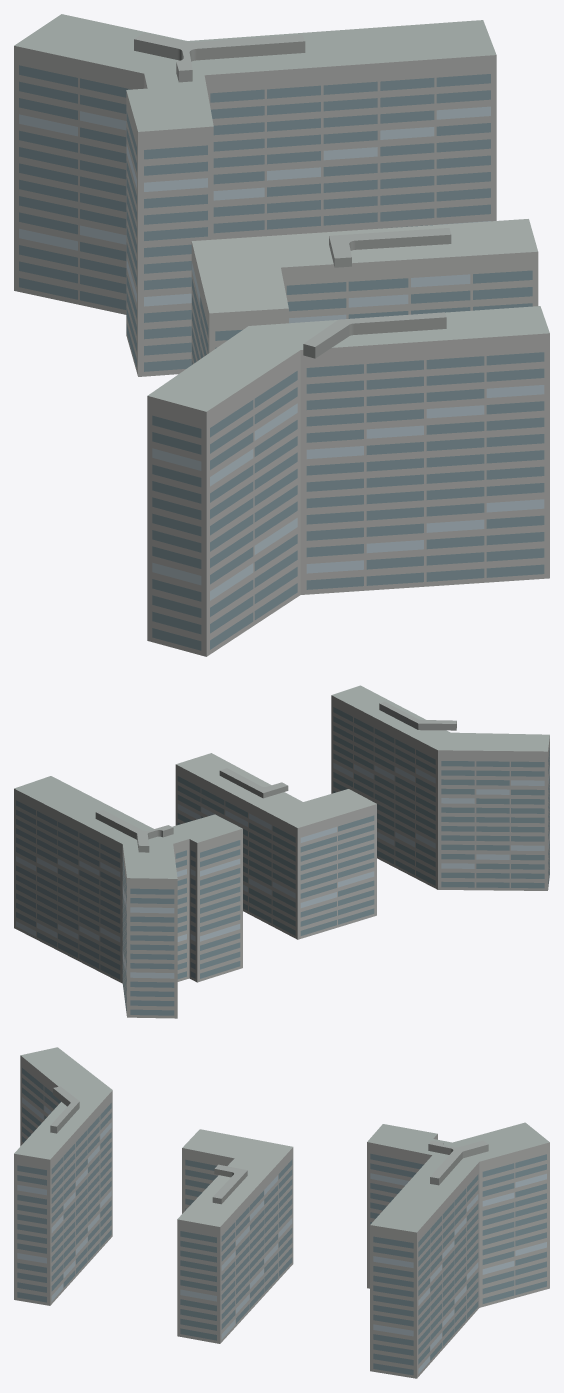
Rendered from apt-a15701004.glb.
3 views of the same model, one above another, from view 1: azimuth 30°, elevation 25°; view 2: azimuth 150°, elevation 25°; view 3: azimuth 270°, elevation 25° (orthographic). The views are drawn at different scales.
Visible parts, largest first — view 1: apt-a15701004; view 2: apt-a15701004; view 3: apt-a15701004.
Part boxes in pixels (box(x1,y1,x2,y2)): apt-a15701004: box(14, 14, 549, 656); apt-a15701004: box(14, 685, 549, 1018); apt-a15701004: box(14, 1047, 549, 1378).
Size of the model in its own units: 104 by 40 by 127.
